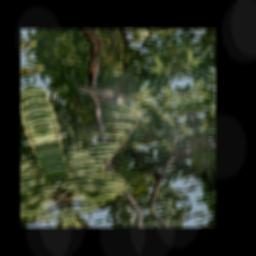Cuckoo: (71, 72, 129, 116)
